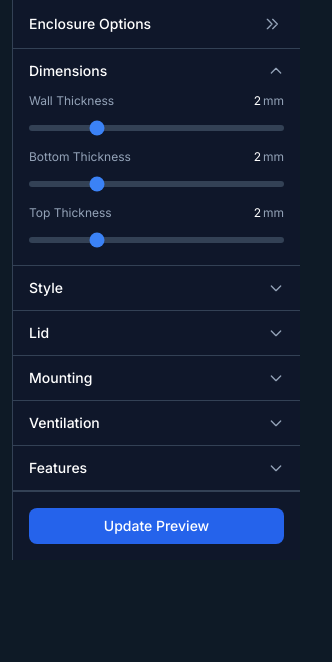
it: EnclosureOptionsPanel › shows screw options for screw lid type
This screenshot has width=332, height=662.
What coordinates should you click on to do the following:
click the button "Lid"
I would click on:
 (39, 332)
Its box is [13,311,300,355].
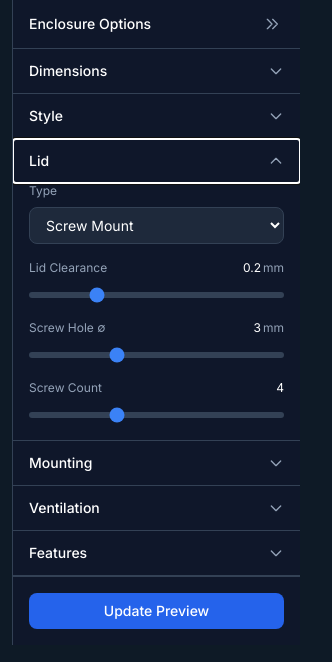
Result: the text "Screw Hole ∅" is shown at [29,320,106,336]
Result: the text "Screw Count" is shown at [29,380,102,396]
